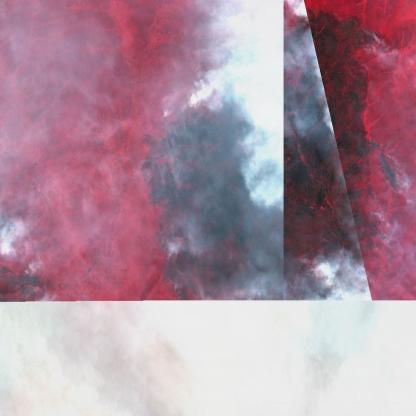fire: (0, 232, 42, 295), (176, 84, 222, 113), (364, 206, 388, 250), (382, 150, 402, 192), (360, 23, 378, 56), (160, 241, 182, 263)
